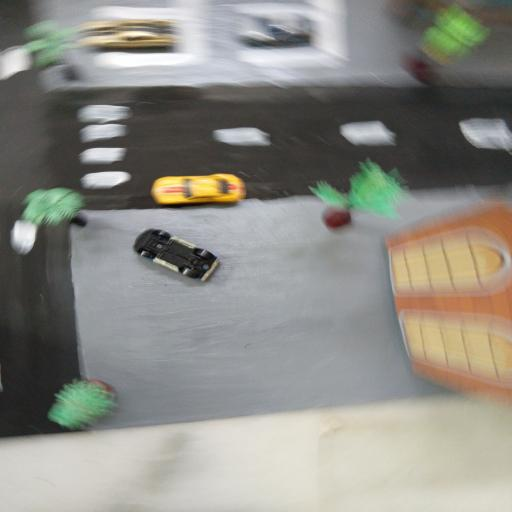car crash: (129, 220, 236, 293)
